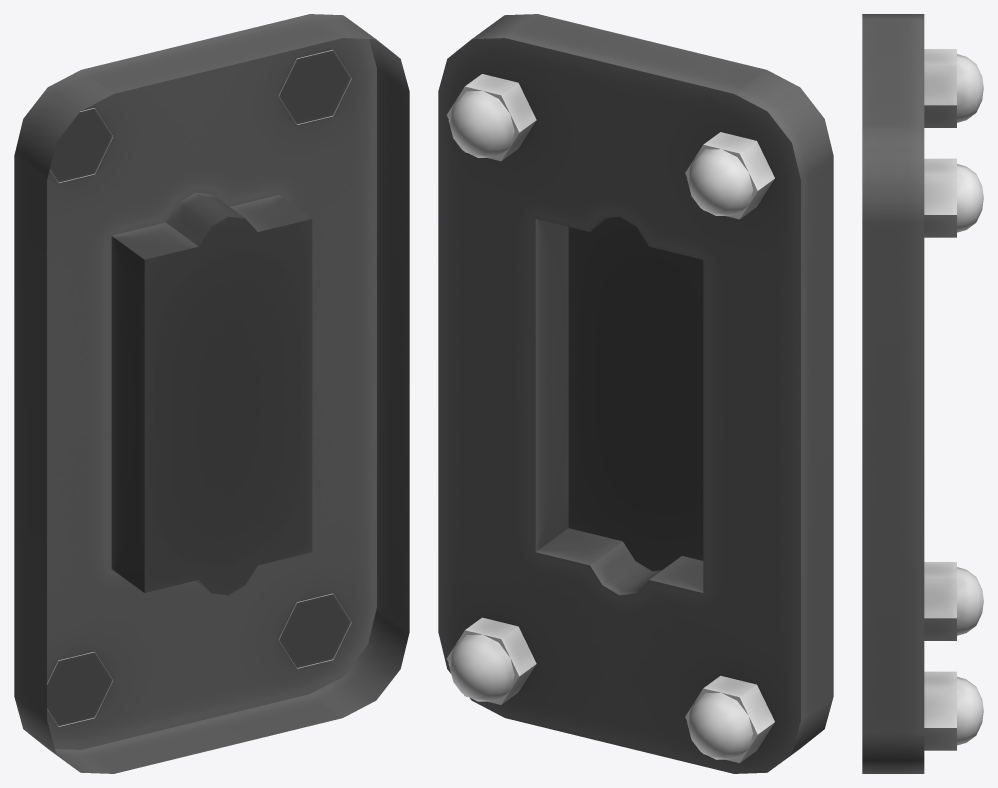
File: SM_Switch_2_Base.fbx
3 views of the same model, side by side, from view 1: azimuth 30°, elevation 25°; view 2: azimuth 150°, elevation 25°; view 3: azimuth 270°, elevation 25° (orthographic). The views are drawn at different scales.
Visible parts, largest first — view 1: Switcher; view 2: Switcher; view 3: Switcher.
Part boxes in pixels (x1,y1,x2,y2): Switcher: [14, 14, 409, 773]; Switcher: [438, 14, 833, 773]; Switcher: [862, 14, 983, 773].
Size of the model in its own units: 0.3794 by 0.68 by 0.1168.
1 material, 1 textured.
